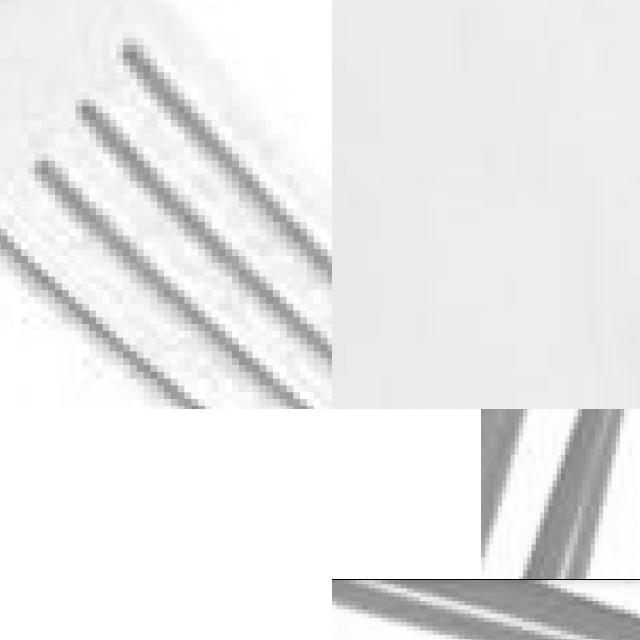forks: (0, 0, 332, 409), (365, 462, 640, 640)
